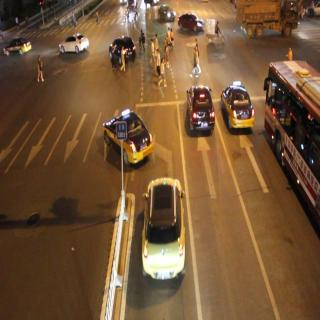BigCar: (257, 29, 320, 238), (233, 2, 305, 42)
Car: (139, 171, 186, 282), (99, 104, 154, 167), (184, 77, 219, 149), (221, 77, 253, 141), (58, 33, 92, 55), (178, 11, 204, 36), (6, 32, 35, 54), (154, 2, 178, 26), (111, 36, 133, 62)
